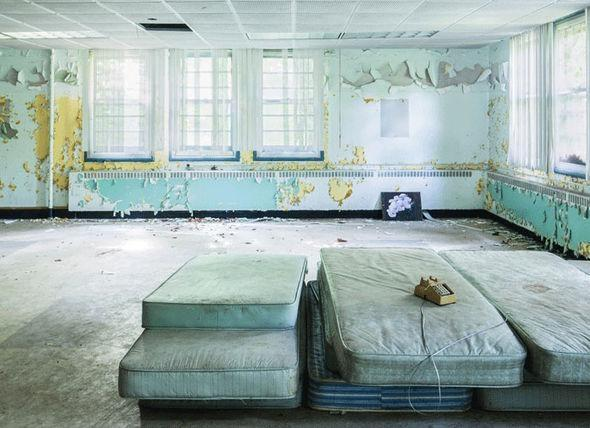Bed-Mattress: (320, 248, 527, 387), (444, 252, 590, 384), (114, 316, 305, 404), (139, 247, 310, 329)
